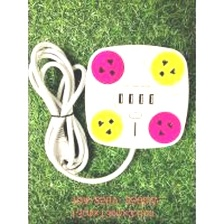three_eye_plug: (83, 43, 190, 150)
